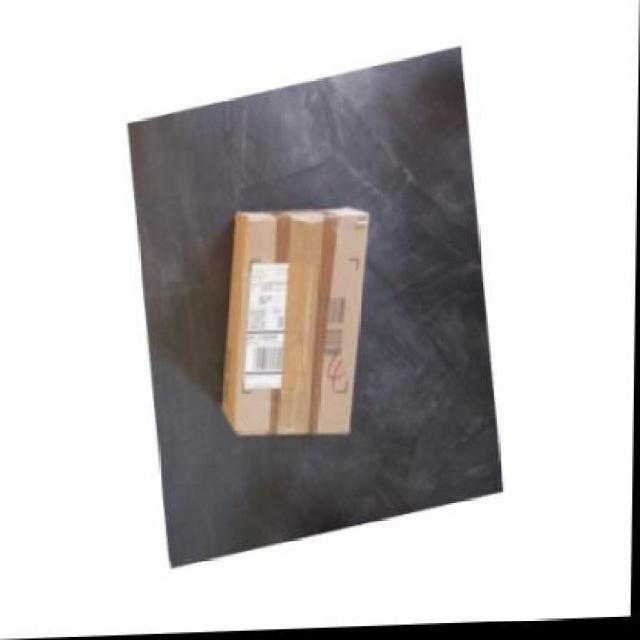box: (221, 204, 369, 436)
